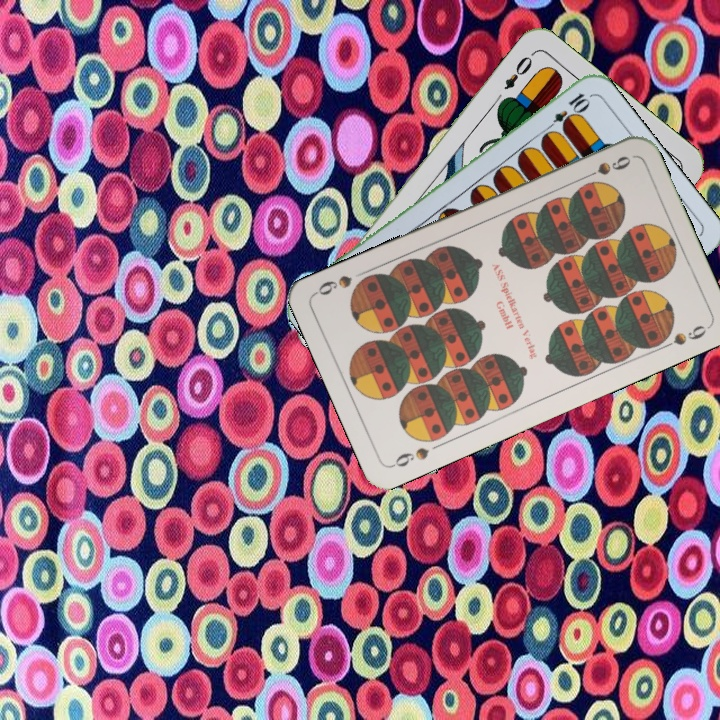E10: (541, 89, 592, 136)
EO: (500, 52, 536, 93)
S9: (578, 151, 634, 183), (387, 443, 432, 470)
